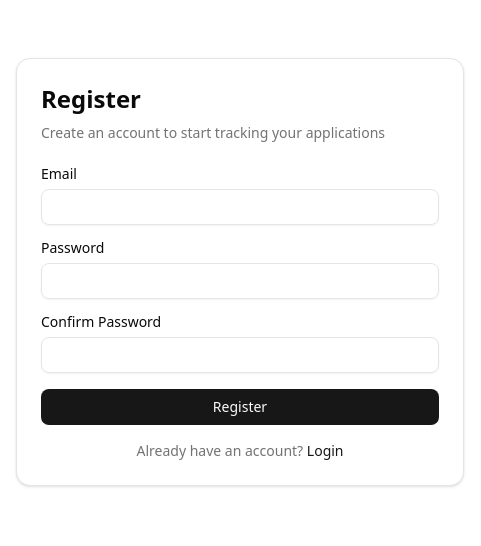
Scenario: RegisterPage › shows validation errors when submitting empty form
The width and height of the screenshot is (481, 546).
Click the button "Register" at (240, 407), box [41, 389, 439, 425]
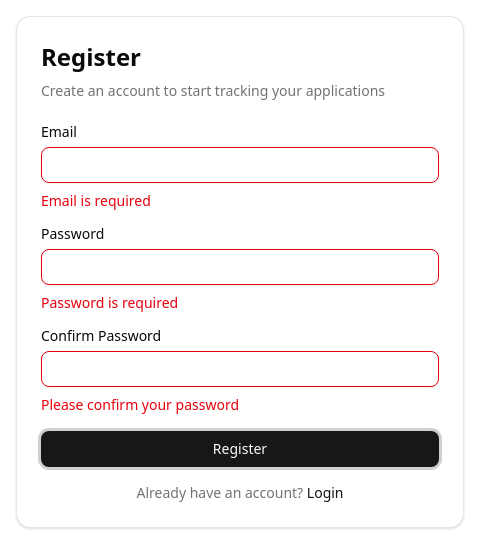
Result: the text "Email is required" is shown at [41, 191, 151, 210]
Result: the text "Password is required" is shown at [41, 293, 178, 312]
Result: the text "Please confirm your password" is shown at [41, 395, 239, 414]
